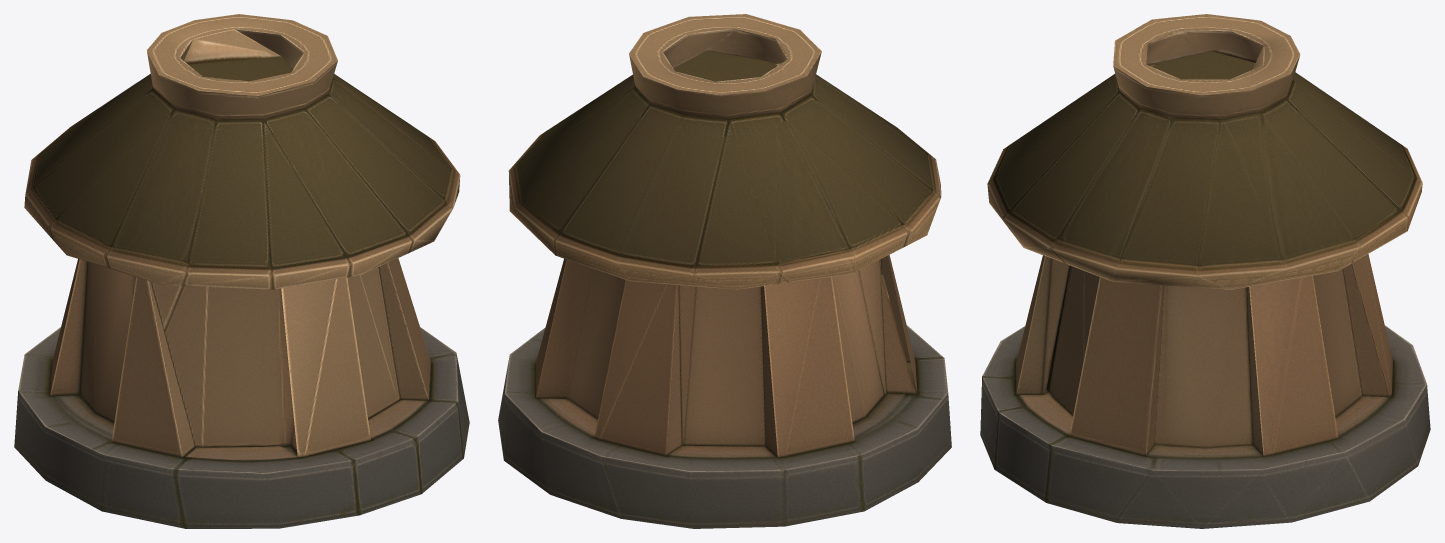
The model's file is Meshy_AI_Industrial_Chimney_Ba_0824124516_texture.fbx.
The picture shows the model from 3 angles, left to right: view 1: azimuth 30°, elevation 25°; view 2: azimuth 150°, elevation 25°; view 3: azimuth 270°, elevation 25°; orthographic projection.
Parts seen in each view (by area): view 1: mesh_node; view 2: mesh_node; view 3: mesh_node.
Boxes of the visible parts, x1,y1,x2,y2 form: mesh_node: [14, 14, 469, 528]; mesh_node: [498, 14, 951, 528]; mesh_node: [980, 14, 1430, 528].
Bounding box in the file's own units: 100 × 93.16 × 100.
1 material, 1 textured.
